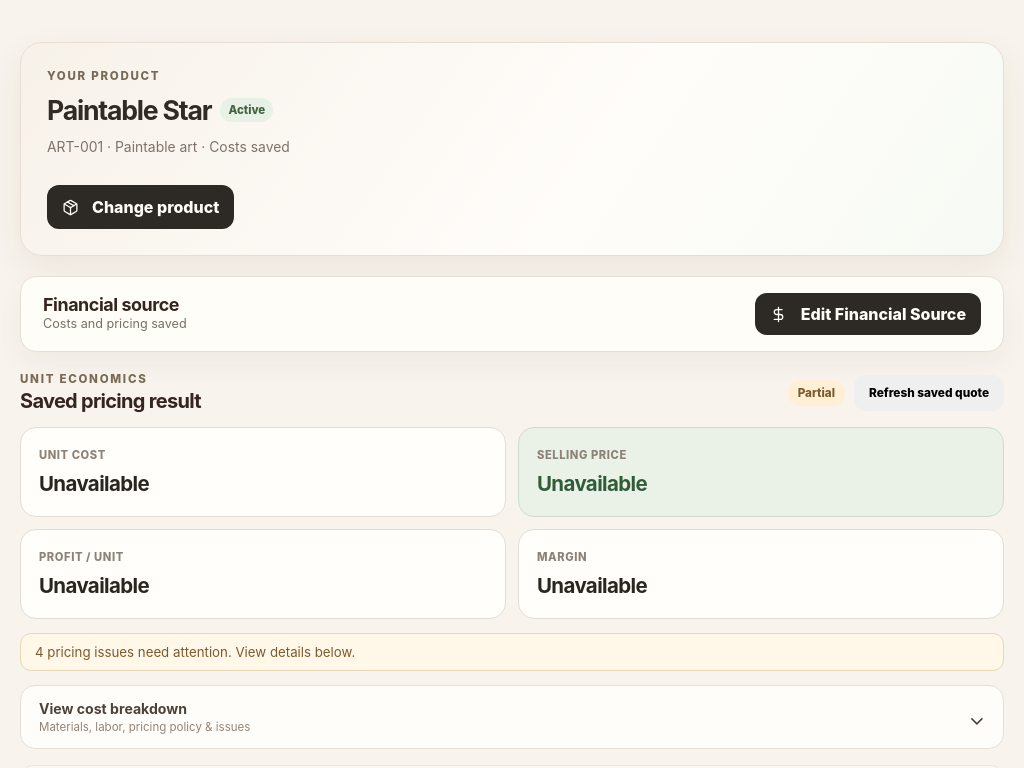
it: Pricing workspace UI/UX › hides saved financial metrics on the Pricing summary but preserves all inputs in the Financial Source modal
Expected: the element named "Financial source summary" is shown, top-left (20, 276), bottom-right (1004, 352)
Click the button "Edit Financial Source" at point(868, 314), box top-left (755, 293), bottom-right (981, 335)
(page scrolled)
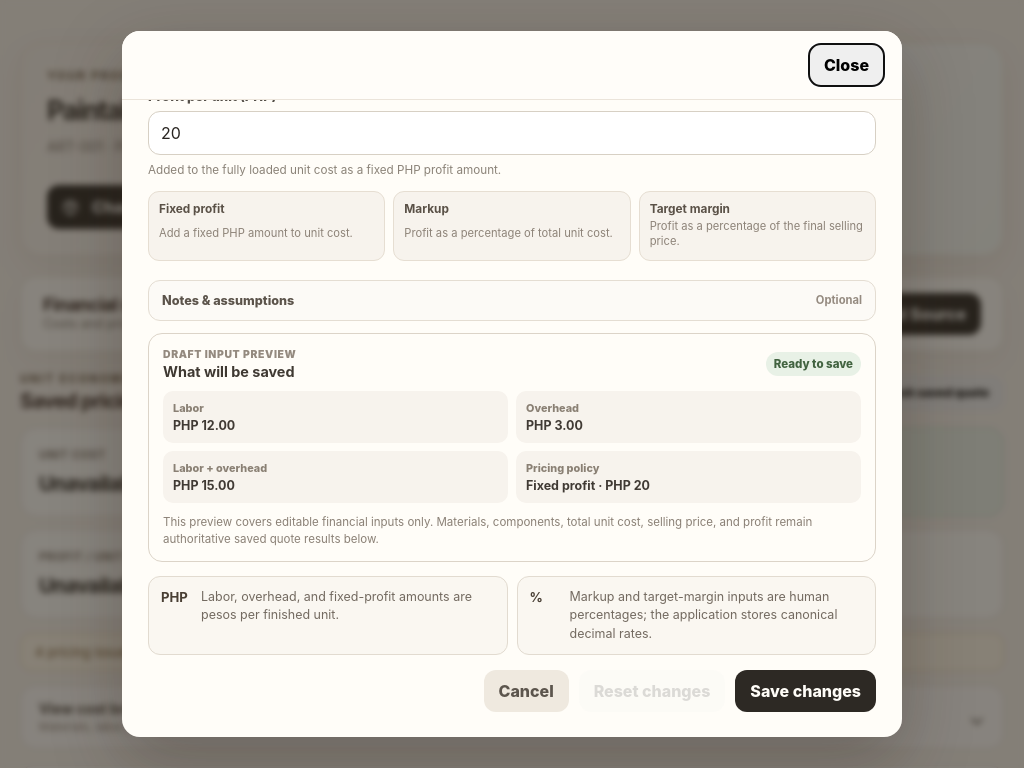
Now the dialog named "Financial Source" is shown
Now the number field holds "20", box top-left (148, 111), bottom-right (876, 155)
Now the submit button is shown, box top-left (735, 670), bottom-right (876, 712)
